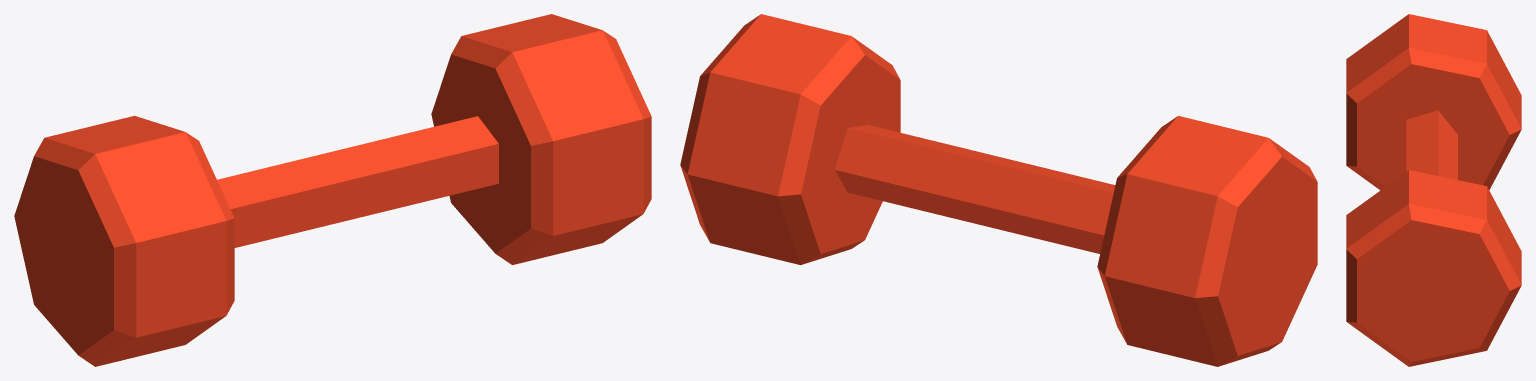
Rendered from SM_Dumbbell_Gym_D_City.fbx.
3 renders of one model, left to right at view 1: azimuth 30°, elevation 25°; view 2: azimuth 150°, elevation 25°; view 3: azimuth 270°, elevation 25°, orthographic. The views are drawn at different scales.
Parts seen in each view (by area): view 1: SM_Dumbbell_Gym_D_City; view 2: SM_Dumbbell_Gym_D_City; view 3: SM_Dumbbell_Gym_D_City.
Boxes of the visible parts, <box> form: SM_Dumbbell_Gym_D_City: <box>14,14,651,366</box>; SM_Dumbbell_Gym_D_City: <box>680,14,1317,366</box>; SM_Dumbbell_Gym_D_City: <box>1346,14,1521,366</box>.
Size of the model in its own units: 0.3468 by 0.1312 by 0.1279.
